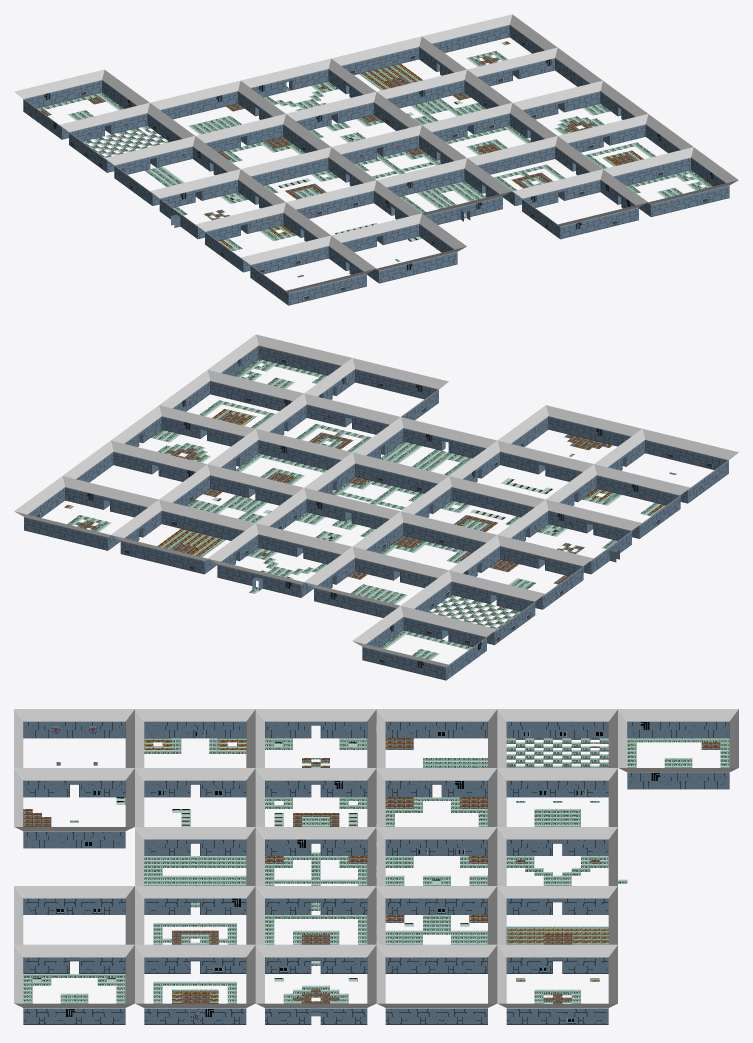
The model's file is Sector1.obj.
The picture shows the model from 3 angles, top to bottom: view 1: azimuth 30°, elevation 25°; view 2: azimuth 150°, elevation 25°; view 3: azimuth 270°, elevation 25°; orthographic projection. The views are drawn at different scales.
Parts seen in each view (by area): view 1: Walls, Floors; view 2: Walls, Floors; view 3: Walls, Floors.
Boxes of the visible parts, <box> form: Walls: <box>14,14,738,305</box>; Floors: <box>37,41,713,277</box>; Walls: <box>14,334,738,680</box>; Floors: <box>64,359,676,660</box>; Walls: <box>14,709,738,1024</box>; Floors: <box>23,738,729,1003</box>.
Size of the model in its own units: 600 by 24 by 624.
